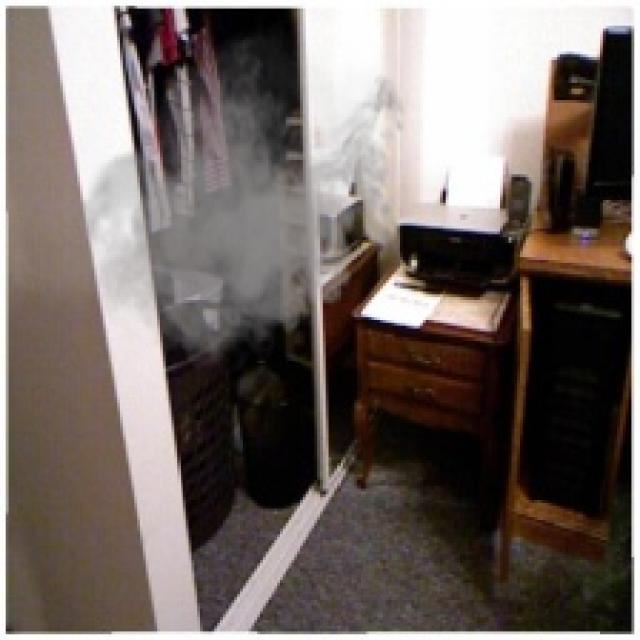Smoke: (60, 14, 417, 380)
